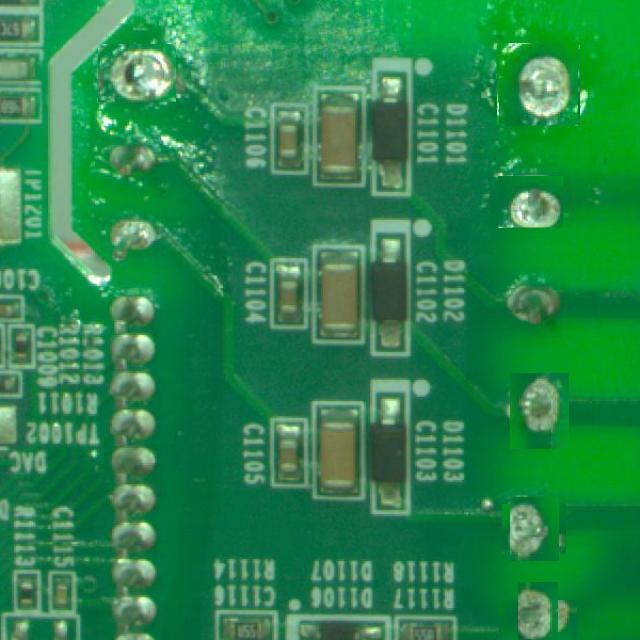lack_of_part: (498, 44, 579, 126), (102, 213, 186, 273), (505, 378, 573, 446), (98, 44, 176, 102), (498, 176, 563, 228), (506, 500, 563, 558), (508, 590, 567, 640)
